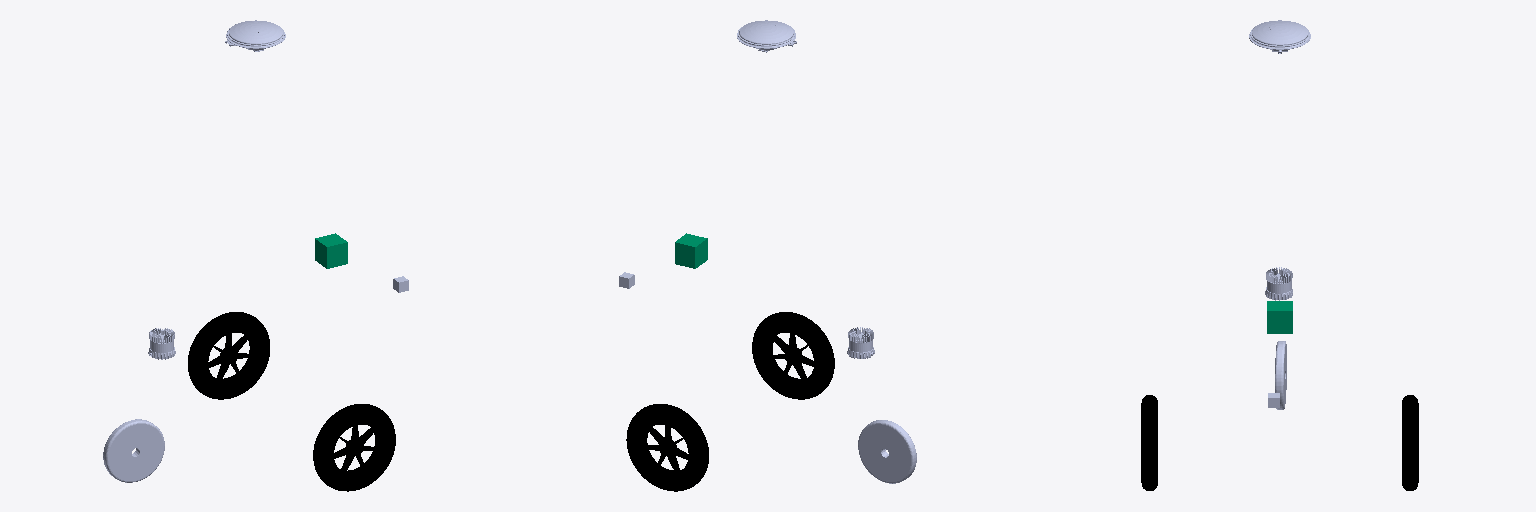
--- Facts derived from the render (not from the file) ---
Views: 3 orthographic renders of the robot side by side, from view 1: azimuth 30°, elevation 25°; view 2: azimuth 150°, elevation 25°; view 3: azimuth 270°, elevation 25°.
Robot: swag — 13 links, 12 joints (3 continuous, 9 fixed); root link base_footprint; default pose: all joints at 0.
Visible links, largest first — view 1: right_wheel, left_wheel, caster_wheel, gps, imu, battery; view 2: right_wheel, left_wheel, caster_wheel, gps, imu, battery; view 3: left_wheel, right_wheel, gps, imu, battery, caster_wheel.
Link boxes in pixels (x1,y1,x2,y2): right_wheel: [313, 404, 395, 491]; left_wheel: [188, 312, 269, 399]; caster_wheel: [103, 419, 164, 482]; gps: [225, 20, 285, 51]; imu: [315, 233, 347, 268]; battery: [148, 328, 175, 359]; right_wheel: [752, 312, 834, 399]; left_wheel: [626, 404, 708, 491]; caster_wheel: [858, 420, 916, 483]; gps: [737, 20, 796, 52]; imu: [675, 233, 707, 268]; battery: [847, 327, 874, 358]; left_wheel: [1402, 395, 1418, 490]; right_wheel: [1141, 395, 1157, 490]; gps: [1249, 20, 1310, 53]; imu: [1267, 301, 1292, 333]; battery: [1265, 267, 1292, 300]; caster_wheel: [1275, 341, 1286, 409].
Size in the robot's own frame: 1.07 by 0.8298 by 1.46 metres.
5 mesh visuals loaded from 8 distinct referenced files (5 binary STL); not drawn: 5 (reference not matched to a file when rendering).

The robot description file, URDF, robot "swag":
<?xml version="1.0" encoding="utf-8"?>
<!-- This URDF was automatically created by SolidWorks to URDF Exporter! Originally created by Stephen Brawner ([email redacted]) 
     Commit Version: 1.6.0-1-g15f4949  Build Version: 1.6.7594.29634
     For more information, please see http://wiki.ros.org/sw_urdf_exporter -->
<robot
  name="swag">

<!-- Adding base_footprint link -->
    <link name="base_footprint"/>
      <!-- <visual>
          <origin xyz="0 0 0" rpy="0 0 0" />
          <geometry>
             <box size="0.001 0.001 0.001" />
          </geometry>
      </visual>
    </link> -->

    <joint name="base_footprint_joint" type="fixed">
      <origin xyz="0 0 0.56" rpy="0 0 0" />       <!-- height from ground plane -->
      <parent link="base_footprint"/>
      <child link="base_link" />
    </joint> 


<!-- Actual exported urdf -->
  <link
    name="base_link">
      <origin
        xyz="-0.01925 -0.0016451 -0.059447"
        rpy="0 0 0" />
<inertial>
<mass value="1.0"/>
<inertia ixx="0.015" iyy="0.0375" izz="0.0375"
ixy="0" ixz="0" iyz="0"/>
</inertial>
    <visual>
      <origin
        xyz="0 0 0"
        rpy="0 0 0" />
      <geometry>
        <mesh   
          filename="package://swag_description/urdf/meshes/base_link.STL" />
      </geometry>
      <material
        name="">
        <color
          rgba="0.79216 0.81961 0.93333 1" />
      </material>
    </visual>
    <collision>
      <origin
        xyz="0 0 0"
        rpy="0 0 0" />
      <geometry>
        <mesh
          filename="package://swag_description/urdf/meshes/base_link.STL" />
      </geometry>
    </collision>
  </link>

  <gazebo reference="base_link">
    <material>Gazebo/Grey</material>
  </gazebo>


  <link
    name="right_wheel">
    <inertial>
      <origin
        xyz="1.2293E-13 -0.01 0.024973"
        rpy="0 0 0" />
      <mass
        value="1" />
      <inertia
        ixx="0.012305"
        ixy="5.1232E-10"
        ixz="-2.4039E-10"
        iyy="0.012305"
        iyz="2.1494E-11"
        izz="0.024088" />
    </inertial>
    <visual>
      <origin
        xyz="0 0 0"
        rpy="0 0 0" />
      <geometry>
        <mesh
          filename="package://swag_description/urdf/meshes/right_wheel.STL" />
      </geometry>
      <material
        name="">
        <color
          rgba="0 0 0 1" />
      </material>
    </visual>
    <collision>
      <origin
        xyz="0 0 0"
        rpy="0 0 0" />
      <geometry>
        <mesh
          filename="package://swag_description/urdf/meshes/right_wheel.STL" />
      </geometry>
    </collision>
  </link>
  <joint
    name="rightW_joint"
    type="continuous">
    <origin
      xyz="0.0779323744201761 -0.364999999999997 -0.374157702890345"
      rpy="-1.57079632679486 -1.40446165194717 3.14159265358973" />
    <parent
      link="base_link" />
    <child
      link="right_wheel" />
    <axis
      xyz="0 0 -1" />
  </joint>


  <link
    name="left_wheel">
    <inertial>
      <origin
        xyz="5.5499E-09 1.8538E-08 0.024973"
        rpy="0 0 0" />
      <mass
        value="1" />
      <inertia
        ixx="0.012305"
        ixy="-3.2599E-10"
        ixz="3.2542E-11"
        iyy="0.012305"
        iyz="-2.3915E-10"
        izz="0.024088" />
    </inertial>
    <visual>
      <origin
        xyz="0 0 0"
        rpy="0 0 0" />
      <geometry>
        <mesh
          filename="package://swag_description/urdf/meshes/left_wheel.STL" />
      </geometry>
      <material
        name="">
        <color
          rgba="0 0 0 1" />
      </material>
    </visual>
    <collision>
      <origin
        xyz="0 0 0"
        rpy="0 0 0" />
      <geometry>
        <mesh
          filename="package://swag_description/urdf/meshes/left_wheel.STL" />
      </geometry>
    </collision>
  </link>
  <joint
    name="leftW_joint"
    type="continuous">
    <origin
      xyz="0.0877860340011714 0.365038482923167 -0.37252"
      rpy="1.5707963267949 0 3.14159265358978" />
    <parent
      link="base_link" />
    <child
      link="left_wheel" />
    <axis
      xyz="0 0 1" />
  </joint>
  <link
    name="lidar">
      <origin
        xyz="-2.0527E-07 0.030231 0.0001454"
        rpy="0 0 0" />
<inertial>
<mass value="0.1"/>
<inertia ixx="0.00083" iyy="0.00083" izz="0.000167"
ixy="0" ixz="0" iyz="0"/>
</inertial>
    <visual>
      <origin
        xyz="0 0 0"
        rpy="0 0 0" />
      <geometry>
        <mesh
          filename="package://swag_description/urdf/meshes/rslidar.dae" />
      </geometry>
      <material
        name="">
        <color
          rgba="0.79216 0.81961 0.93333 1" />
      </material>
    </visual>
    <collision>
      <origin
        xyz="0 0 0"
        rpy="0 0 0" />
      <geometry>
        <mesh
          filename="package://swag_description/urdf/meshes/rslidar.dae" />
      </geometry>
    </collision>
  </link>
  <joint
    name="lidar_joint"
    type="fixed">
    <origin
      xyz="0.378550224270643 -0.00223404892616089 0.0100000000000009"
      rpy="0 0 0" />
    <parent
      link="base_link" />
    <child
      link="lidar" />
    <axis
      xyz="0 0 0" />
  </joint>



  <link
    name="battery">
      <origin
        xyz="-2.0527E-07 0.030231 0.0001454"
        rpy="0 0 0" />

    <inertial>
      <origin
        xyz="5.5499E-09 1.8538E-08 0.024973"
        rpy="0 0 0" />
      <mass
        value="1" />
      <inertia
        ixx="0.012305"
        ixy="-3.2599E-10"
        ixz="3.2542E-11"
        iyy="0.012305"
        iyz="-2.3915E-10"
        izz="0.024088" />
    </inertial>

    <visual>
      <origin
        xyz="0 0 0"
        rpy="0 0 0" />
      <geometry>
        <mesh
          filename="package://swag_description/urdf/meshes/lidar.STL" />
      </geometry>
      <material
        name="">
        <color
          rgba="0.79216 0.81961 0.93333 1" />
      </material>
    </visual>
    <collision>
      <origin
        xyz="0 0 0"
        rpy="0 0 0" />
      <geometry>
        <mesh
          filename="package://swag_description/urdf/meshes/lidar.STL" />
      </geometry>
    </collision>
  </link>
  <joint
    name="battery_joint"
    type="fixed">
    <origin
      xyz="-0.378550224270643 -0.00223404892616089 -0.100000000000009"
      rpy="1.5707963267949 0 1.57079632679489" />
    <parent
      link="base_link" />
    <child
      link="battery" />
    <axis
      xyz="0 0 0" />
  </joint>


  
  
  <link
    name="depth_camera">
    <inertial>
      <origin
        xyz="0.0148938115667123 0.0283262503127141 0.0395944852205197"
        rpy="0 0 0" />
      <mass
        value="0.0114541017386688" />
      <inertia
        ixx="2.15039864463681E-06"
        ixy="3.2699281305158E-09"
        ixz="-1.11910063556882E-10"
        iyy="1.31245899187385E-06"
        iyz="2.45879692105711E-08"
        izz="2.941886168358E-06" />
    </inertial>
    <visual>
      <origin
        xyz="0 0 0"
        rpy="0 0 0" />
      <geometry>
      <box size="0.035 0.035 0.035"/>
        <!-- <mesh
          filename="package://swag_description/urdf/meshes/zoom_cam_housing.stl" /> -->
      </geometry>
      <material
        name="">
        <color
          rgba="0.792156862745098 0.819607843137255 0.933333333333333 1" />
      </material>
    </visual>
    <collision>
      <origin
        xyz="0 0 0"
        rpy="0 0 0" />
      <geometry>
      <box size="0.035 0.035 0.035"/>
        <!-- <mesh
          filename="package://swag_description/urdf/meshes/zoom_cam_housing.stl" /> -->
      </geometry>
    </collision>
  </link>
  <!-- 0.420934564581309 -->
  <joint
    name="dc_joint"
    type="fixed">
    <origin
      xyz="0.47 -0.0170408859469605 -0.0532152731798572"
      rpy="0 0 0" />
    <parent
      link="base_link" />
    <child
      link="depth_camera" />
    <axis
      xyz="0 0 0" />
  </joint>


  <link
    name="gps">
      <origin
        xyz="0.0878665445467171 0.130422234630833 0.125015268882887"
        rpy="0 0 0" />
      <inertial>
<mass value="0.1"/>
<inertia ixx="0.00083" iyy="0.00083" izz="0.000167"
ixy="0" ixz="0" iyz="0"/>
</inertial>
    <visual>
      <origin
        xyz="0 0 0"
        rpy="0 0 0" />
      <geometry>
        <mesh
          filename="package://swag_description/urdf/meshes/gps.STL" />
      </geometry>
      <material
        name="">
        <color
          rgba="0.792156862745098 0.819607843137255 0.933333333333333 1" />
      </material>
    </visual>
    <collision>
      <origin
        xyz="0 0 0"
        rpy="0 0 0" />
      <geometry>
        <mesh
          filename="package://swag_description/urdf/meshes/gps.STL" />
      </geometry>
    </collision>
  </link>
  <joint
    name="gps_joint"
    type="fixed">
    <origin
      xyz="0.046914 -0.12501 0.78114"
      rpy="1.5708 0 3.1416" />
    <parent
      link="base_link" />
    <child
      link="gps" />
    <axis
      xyz="0 0 0" />
  </joint>

  <link
    name="realsense_camera">
      <origin
        xyz="0.0107003703349945 0.042628811329497 0.092647371898425"
        rpy="0 0 0" />
<inertial>
<mass value="0.1"/>
<inertia ixx="0.00083" iyy="0.00083" izz="0.000167"
ixy="0" ixz="0" iyz="0"/>
</inertial>
    <visual>
      <origin
        xyz="0 0 0"
        rpy="0 0 0" />
      <geometry>
        <mesh
          filename="package://swag_description/urdf/meshes/intel_r430.dae" />
      </geometry>
      <material
        name="">
        <color
          rgba="0.792156862745098 0.819607843137255 0.933333333333333 1" />
      </material>
    </visual>
    <collision>
      <origin
        xyz="0 0 0"
        rpy="0 0 0" />
      <geometry>
        <mesh
          filename="package://swag_description/urdf/meshes/intel_r430.dae" /> 
      </geometry>
    </collision>
  </link>
  <joint name="rc_joint" type="fixed">
    <origin xyz="0.27 0.0 0.155" rpy="0 0.3 0" />      
    <parent
      link="base_link" />
    <child
      link="realsense_camera" />
    <axis
      xyz="0 0 0" />
  </joint>
  <link
    name="caster_wheel">
    <inertial>
      <origin
        xyz="-9.4369E-16 -1.0547E-15 0.021548"
        rpy="0 0 0" />
      <mass
        value="0.5" />
      <inertia
        ixx="0.0024135"
        ixy="0"
        ixz="-1.3824E-18"
        iyy="0.0024135"
        iyz="-2.9341E-18"
        izz="0.0047228" />
    </inertial>
    <visual>
      <origin
        xyz="0 0 0"
        rpy="0 0 0" />
      <geometry>
        <mesh
          filename="package://swag_description/urdf/meshes/caster_wheel.STL" />
      </geometry>
      <material
        name="">
        <color
          rgba="0.79216 0.81961 0.93333 1" />
      </material>
    </visual>
    <collision>
      <origin
        xyz="0 0 0"
        rpy="0 0 0" />
      <geometry>
        <mesh
          filename="package://swag_description/urdf/meshes/caster_wheel.STL" />
      </geometry>
    </collision>
  </link>
  <joint
    name="cj"
    type="continuous">
    <origin
      xyz="-0.47513 0.024316 -0.41133"
      rpy="-1.5708 1.0882 3.088" />
    <parent
      link="base_link" />
    <child
      link="caster_wheel" />
    <axis
      xyz="0 0 1" />
  </joint>

<!-- IMU link -->  
<link name="imu">
    <visual>
      <geometry>
        <box size="0.075 0.075 0.075"/>
      </geometry>
    </visual>
</link>

<joint name="imu_joint" type="fixed">
    <origin
      xyz="0.23 0 0.11"
      rpy="0 0 0" />
    <parent
      link="base_link" />
    <child
      link="imu" />
    <axis xyz="0 0 0" />
</joint>


<!-- Kinect 1 -->
  <link
    name="kinect1">
      <origin xyz="0.0107003703349945 0.042628811329497 0.092647371898425" rpy="0 0 0" />
    <inertial>
    <mass value="0.1"/>
    <inertia ixx="0.00083" iyy="0.00083" izz="0.000167"
    ixy="0" ixz="0" iyz="0"/>
    </inertial>
    <visual>
      <origin
        xyz="0 0 0"
        rpy="0 0 0" />
      <geometry>
        <mesh
          filename="package://swag_description/urdf/meshes/intel_r430.dae" />
      </geometry>
      <material
        name="">
        <color
          rgba="0.792156862745098 0.819607843137255 0.933333333333333 1" />
      </material>
    </visual>
    <collision>
      <origin
        xyz="0 0 0"
        rpy="0 0 0" />
      <geometry>
        <mesh
          filename="package://swag_description/urdf/meshes/intel_r430.dae" /> 
      </geometry>
    </collision>
  </link>
  <joint name="kinect1_joint" type="fixed">
    <origin xyz="0.0 -0.37 0.85" rpy="0 0.9 -1.57" />    
    <parent
      link="base_link" />
    <child
      link="kinect1" />
    <axis
      xyz="0 0 0" />
  </joint>


    <gazebo reference="kinect1">  
      <sensor type="depth" name="kinect1_sensor">
        <always_on>true</always_on>
        <update_rate>20.0</update_rate>
        <camera>
          <horizontal_fov>1.3</horizontal_fov>        <!-- As per datasheet 69 * 42 -->
          <vertical_fov>0.7504</vertical_fov>
          <image>
            <format>R8G8B8</format>
            <width>640</width>
            <height>480</height>
          </image>
          <clip>
            <near>0.05</near>
            <far>8.0</far>
          </clip>
        </camera>
        <plugin name="kinect1_controller" filename="libgazebo_ros_openni_kinect.so">
          <cameraName>kinect1</cameraName>
          <alwaysOn>true</alwaysOn>
          <updateRate>10</updateRate>
          <imageTopicName>rgb/image_raw</imageTopicName>
          <depthImageTopicName>depth/image_raw</depthImageTopicName>
          <pointCloudTopicName>depth/points</pointCloudTopicName>
          <cameraInfoTopicName>rgb/camera_info</cameraInfoTopicName>
          <depthImageCameraInfoTopicName>depth/camera_info</depthImageCameraInfoTopicName>
          <frameName>/kinect1</frameName>
          <baseline>0.1</baseline>
          <distortion_k1>0.0</distortion_k1>
          <distortion_k2>0.0</distortion_k2>
          <distortion_k3>0.0</distortion_k3>
          <distortion_t1>0.0</distortion_t1>
          <distortion_t2>0.0</distortion_t2>
          <pointCloudCutoff>0.4</pointCloudCutoff>
          <pointCloudCutoffMax>5.0</pointCloudCutoffMax>
        </plugin>
      </sensor>
    </gazebo>



<!-- Kinect2 -->
  <link
    name="kinect2">
      <origin xyz="0.0107003703349945 0.042628811329497 0.092647371898425" rpy="0 0 0" />
    <inertial>
    <mass value="0.1"/>
    <inertia ixx="0.00083" iyy="0.00083" izz="0.000167"
    ixy="0" ixz="0" iyz="0"/>
    </inertial>
    <visual>
      <origin
        xyz="0 0 0"
        rpy="0 0 0" />
      <geometry>
        <mesh
          filename="package://swag_description/urdf/meshes/intel_r430.dae" />
      </geometry>
      <material
        name="">
        <color
          rgba="0.792156862745098 0.819607843137255 0.933333333333333 1" />
      </material>
    </visual>
    <collision>
      <origin
        xyz="0 0 0"
        rpy="0 0 0" />
      <geometry>
        <mesh
          filename="package://swag_description/urdf/meshes/intel_r430.dae" /> 
      </geometry>
    </collision>
  </link>
  <joint name="kinect2_joint" type="fixed">
    <origin xyz="0.0 0.37 0.85" rpy="0 0.9 1.57" />   
    <parent
      link="base_link" />
    <child
      link="kinect2" />
    <axis
      xyz="0 0 0" />
  </joint>

    <gazebo reference="kinect2">  
      <sensor type="depth" name="kinect2_sensor">
        <always_on>true</always_on>
        <update_rate>20.0</update_rate>
        <camera>
          <horizontal_fov>1.3</horizontal_fov>        <!-- As per datasheet 69 * 42 -->
          <vertical_fov>0.7504</vertical_fov>
          <image>
            <format>R8G8B8</format>
            <width>640</width>
            <height>480</height>
          </image>
          <clip>
            <near>0.05</near>
            <far>8.0</far>
          </clip>
        </camera>
        <plugin name="kinect2_controller" filename="libgazebo_ros_camera.so">
          <cameraName>kinect2</cameraName>
          <alwaysOn>true</alwaysOn>
          <updateRate>10</updateRate>
          <imageTopicName>rgb/image_raw</imageTopicName>
          <depthImageTopicName>depth/image_raw</depthImageTopicName>
          <pointCloudTopicName>depth/points</pointCloudTopicName>
          <cameraInfoTopicName>rgb/camera_info</cameraInfoTopicName>
          <depthImageCameraInfoTopicName>depth/camera_info</depthImageCameraInfoTopicName>
          <frameName>/kinect2</frameName>
          <baseline>0.1</baseline>
          <distortion_k1>0.0</distortion_k1>
          <distortion_k2>0.0</distortion_k2>
          <distortion_k3>0.0</distortion_k3>
          <distortion_t1>0.0</distortion_t1>
          <distortion_t2>0.0</distortion_t2>
          <pointCloudCutoff>0.4</pointCloudCutoff>
          <pointCloudCutoffMax>5.0</pointCloudCutoffMax>
        </plugin>
      </sensor>
    </gazebo>


<!-- Wheel properties -->
<Gazebo reference="caster_wheel">
  <mu1 value="1500.0"/>
  <mu2 value="1500.0"/>
  <kp value="10000000.0" />
  <kd value="1000.0" />
  <fdir1 value="1 0 0"/>
</Gazebo>

<Gazebo reference="left_wheel">
  <mu1 value="1500.0"/>
  <mu2 value="1500.0"/>
  <kp value="10000000.0" />
  <kd value="100.0" />
  <fdir1 value="1 0 0"/>
</Gazebo>

<Gazebo reference="right_wheel">
  <mu1 value="1500.0"/>
  <mu2 value="1500.0"/>
  <kp value="10000000.0" />
  <kd value="100.0" />
  <fdir1 value="1 0 0"/>
</Gazebo>



  <gazebo reference="right_wheel">
    <material>Gazebo/Black</material>
  </gazebo>

  <gazebo reference="left_wheel">
    <material>Gazebo/Black</material>
  </gazebo>

  <gazebo reference="lidar">
    <material>Gazebo/Grey</material>
  </gazebo>

  <gazebo reference="caster_wheel">
    <material>Gazebo/Black</material>
  </gazebo>

  <gazebo reference="realsense_camera">
    <material>Gazebo/Grey</material>
  </gazebo>

<gazebo reference="gps">
    <material>Gazebo/Grey</material>
  </gazebo>

<gazebo reference="imu_link">
    <material>Gazebo/Red</material>
</gazebo>

<gazebo reference="kinect1">
    <material>Gazebo/Black</material>
</gazebo>


<gazebo reference="kinect2">
    <material>Gazebo/Black</material>
</gazebo>





<!-- Sensor drivers/plugins -->

<!-- differential_drive  -->
<gazebo>
  <plugin name="differential_drive_controller" filename="libgazebo_ros_diff_drive.so">
  <updateRate>100</updateRate>
  <leftJoint>leftW_joint</leftJoint>
  <rightJoint>rightW_joint</rightJoint>
  <robotBaseFrame>base_footprint</robotBaseFrame>
  <commandTopic>cmd_vel</commandTopic>
  <odometryTopic>odom</odometryTopic>
  <odometryFrame>odom</odometryFrame>
  <wheelSeparation>0.75</wheelSeparation>                 <!--Check with model-->
  <wheelDiameter>0.28</wheelDiameter>
  <publishWheelJointState>true</publishWheelJointState>
  <legacyMode>false</legacyMode>
  <publishOdom>true</publishOdom>
  </plugin>
</gazebo>



  <!-- camera -->
  <!-- <gazebo reference="depth_camera">
    <sensor name="center_camera" type="camera">
        <camera>
          <horizontal_fov>2.239</horizontal_fov>
          <vertical_fov>1.995</vertical_fov>
          <image>
            <width>640</width>
            <height>512</height>
          </image>
          <clip>
            <near>0.1</near>
            <far>100</far>
          </clip>
        </camera>
        <always_on>1</always_on>
        <update_rate>30</update_rate>
        <plugin name="camera_controller" filename="libgazebo_ros_camera.so">
          <alwaysOn>true</alwaysOn>
          <updateRate>30.0</updateRate>
          <cameraName>depth_camera</cameraName>
          <imageTopicName>image_raw</imageTopicName>
          <cameraInfoTopicName>camera_info</cameraInfoTopicName>
          <frameName>optical_cam_center</frameName>
          <hackBaseline>0.0</hackBaseline>
          <distortionK1>0.0</distortionK1>
          <distortionK2>0.0</distortionK2>
          <distortionK3>0.0</distortionK3>
          <distortionT1>0.0</distortionT1>
          <distortionT2>0.0</distortionT2>
        </plugin>
      </sensor>
  </gazebo> -->



  <!-- gps -->
    <gazebo>
      <plugin filename="libhector_gazebo_ros_gps.so" name="gps">
      <updateRate>20.0</updateRate>
      <bodyName>gps</bodyName>
      <frameId>gps</frameId>
      <topicName>/fix</topicName>
      <velocityTopicName>/fix_velocity</velocityTopicName>
      <referenceLatitude>33.774497</referenceLatitude>
      <referenceLongitude>-84.405001</referenceLongitude>
      <referenceAltitude>309.0</referenceAltitude>
      <drift>0.001 0.001 0.001</drift>
      <gaussianNoise>0.0001 0.0001 0.0001</gaussianNoise>
      <velocityDrift>0 0 0</velocityDrift>
      <velocityGaussianNoise>0.005 0.005 0.05</velocityGaussianNoise>
      </plugin>
    </gazebo>



<!-- lidar -->
<!-- <gazebo reference="lidar">
        <sensor type="ray" name="sensor_rslidar_gazebo">
          <pose>0 0 0 0 0 0.0</pose>
          <visualize>false</visualize>
          <update_rate>20</update_rate>
          <ray>
            <scan>
              <horizontal>
                <samples>10</samples>
                <min_angle>-3.14</min_angle>
                <max_angle>3.14</max_angle>
              </horizontal>
              <vertical>
                <samples>10</samples>
                <min_angle>-0.707</min_angle>
                <max_angle>0.707</max_angle>
              </vertical>
            </scan>
            <range>
              <min>0.4</min>
              <max>18</max>
              <resolution>0.01</resolution>
            </range>
            <noise>
              <type>none</type>
            </noise>
          </ray>
          <plugin name="plugin_lib" filename="libgazebo_ros_velodyne_laser.so">
            <topicName>rslidar/point_cloud</topicName>
            <frameName>lidar</frameName>
            <gaussianNoise>0.008</gaussianNoise>
          </plugin>
        </sensor>
    </gazebo> -->

    <gazebo reference="lidar">
    <sensor type="ray" name="head_hokuyo_sensor">
      <pose>0 0 0 0 0 0</pose>
      <visualize>false</visualize>
      <update_rate>40</update_rate>
      <ray>
        <scan>
          <horizontal>
            <samples>720</samples>
            <resolution>1</resolution>
            <min_angle>-1.570796</min_angle>
            <max_angle>1.570796</max_angle>
          </horizontal>
        </scan>
        <range>
          <min>0.10</min>
          <max>30.0</max>
          <resolution>0.01</resolution>
        </range>
        <noise>
          <type>gaussian</type>
          <mean>0.0</mean>
          <stddev>0.01</stddev>
        </noise>
      </ray>
      <plugin name="gazebo_ros_head_hokuyo_controller" filename="libgazebo_ros_laser.so">
        <topicName>/laser/scan</topicName>
        <frameName>lidar</frameName>
      </plugin>
    </sensor>
  </gazebo>






<!-- RealSense -->
  <gazebo reference="realsense_camera">
        <sensor type="depth" name="realsense_camera_gazebo_plugin_macro">
          <update_rate>90</update_rate>
          <camera>
            <horizontal_fov>1.4</horizontal_fov>        <!-- As per datasheet 69 * 42 -->
            <vertical_fov>0.733</vertical_fov>
            <image>
              <format>B8G8R8</format>
              <width>1920</width>
              <height>1080</height>
            </image>
            <clip>
              <near>0.3</near>
              <far>5</far>
            </clip>
          </camera>
          <plugin name="realsense_camera_controller" filename="libgazebo_ros_openni_kinect.so">
            <cameraName>realsense_camera</cameraName>  
            <imageTopicName>rgb/image_raw</imageTopicName>
            <cameraInfoTopicName>rgb/camera_info</cameraInfoTopicName>
            <depthImageTopicName>depth/image_raw</depthImageTopicName>
            <depthImageCameraInfoTopicName>depth/camera_info</depthImageCameraInfoTopicName>
            <pointCloudTopicName>depth_points</pointCloudTopicName>
            <frameName>realsense_camera</frameName>
          </plugin>
        </sensor>
  </gazebo>


<!-- IMU sensor -->
<gazebo>
    <plugin name="gazebo_ros_control" filename="libgazebo_ros_control.so">
      <robotSimType>gazebo_ros_control/DefaultRobotHWSim</robotSimType>
    </plugin>
    <plugin filename="libhector_gazebo_ros_imu.so" name="imu">
      <serviceName>/imu/calibrate</serviceName>
      <updateRate>200.0</updateRate>
      <bodyName>imu</bodyName>
      <frameId>imu</frameId>
      <topicName>/imu</topicName>
      <rpyOffset>0 0 0</rpyOffset>
      <xyzOffset>0 0 0</xyzOffset>
      <gaussianNoise>0.00000001</gaussianNoise>
      <accelDrift>0.00000001 0.00000001 0.00000001</accelDrift>
      <accelDriftFrequency>0.00000001 0.00000001 0.00000001</accelDriftFrequency>
      <accelGaussianNoise>0.00000001 0.00000001 0.00000001</accelGaussianNoise>
      <rateDrift>0.0 0.0 0.0</rateDrift>
      <rateDriftFrequency>0.0 0.0 0.0</rateDriftFrequency>
      <rateGaussianNoise>0.0 0.0 0.0</rateGaussianNoise>
      <headingDrift>0.0 0.0 0.0</headingDrift>
      <headingDriftFrequency>0.0 0.0 0.0</headingDriftFrequency>
      <headingGaussianNoise>0.0 0.0 0.0</headingGaussianNoise>
      <yawOffset>1.5707963</yawOffset>
    </plugin>
</gazebo>



<!-- Publishes world to base_footprint tranformation information -->
  <!-- <gazebo>
    <plugin name="p3d_base_controller" filename="libgazebo_ros_p3d.so">
      <alwaysOn>true</alwaysOn>
      <updateRate>200.0</updateRate>
      <bodyName>base_footprint</bodyName>
      <topicName>ground_truth/state_raw</topicName>
      <gaussianNoise>0.00</gaussianNoise>
      <frameName>world</frameName>
      <xyzOffset>0 0 0</xyzOffset>
      <rpyOffset>0 0 0</rpyOffset>
    </plugin>
  </gazebo> -->



</robot>
